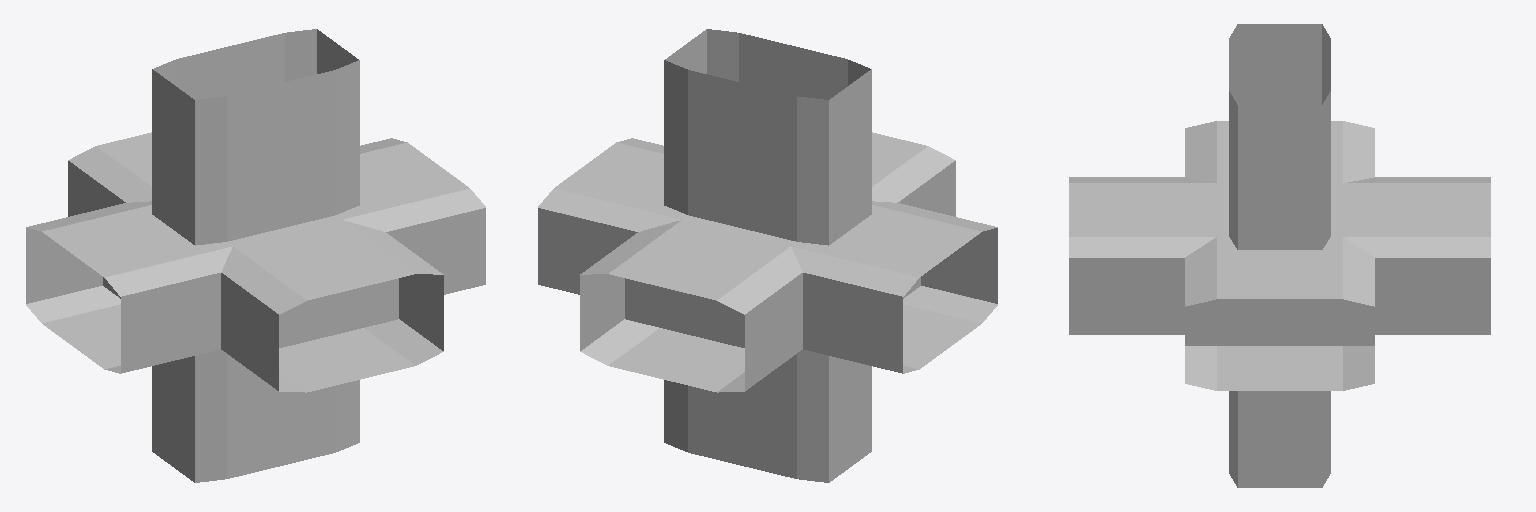
File: busway.obj
3 views of the same model, side by side, from view 1: azimuth 30°, elevation 25°; view 2: azimuth 150°, elevation 25°; view 3: azimuth 270°, elevation 25° (orthographic).
Parts seen in each view (by area): view 1: BuswaySingleVertEndB, BuswayConnectionB, BuswayJunctionConnectionEndC, BuswayConnectionE, BuswayJunctionConnectionEndA, BuswayStrightConnectionC, BuswaySingleHorzEndB, BuswaySingleHorzEndC, BuswaySingleHorzEndD, BuswayConnectionF, BuswaySingleVertEndA, BuswayConnectionD (+2 smaller); view 2: BuswaySingleVertEndB, BuswaySingleHorzEndC, BuswayJunctionConnectionEndA, BuswayStrightConnectionC, BuswayStrightConnectionB, BuswayConnectionE, BuswaySingleHorzEndA, BuswayConnectionF, BuswayJunctionConnectionEndB, BuswayJunctionConnectionEndC, BuswaySingleVertEndA, BuswayConnectionB (+4 smaller); view 3: BuswayJunctionConnectionEndA, BuswayConnectionE, BuswayJunctionConnectionEndC, BuswayConnectionB, BuswaySingleHorzEndD, BuswaySingleHorzEndB, BuswayConnectionD, BuswayConnectionF, BuswayStrightConnectionC, BuswaySingleHorzEndA, BuswaySingleVertEndB, BuswaySingleVertEndA (+4 smaller).
Boxes of the visible parts, x1=… form: BuswaySingleVertEndB: x1=152, y1=29, x2=358, y2=376; BuswayConnectionB: x1=221, y1=220, x2=443, y2=392; BuswayJunctionConnectionEndC: x1=26, y1=201, x2=407, y2=372; BuswayConnectionE: x1=152, y1=33, x2=359, y2=244; BuswayJunctionConnectionEndA: x1=68, y1=132, x2=398, y2=358; BuswayStrightConnectionC: x1=152, y1=35, x2=359, y2=482; BuswaySingleHorzEndB: x1=221, y1=216, x2=443, y2=392; BuswaySingleHorzEndC: x1=26, y1=206, x2=340, y2=373; BuswaySingleHorzEndD: x1=237, y1=142, x2=485, y2=293; BuswayConnectionF: x1=152, y1=350, x2=359, y2=482; BuswaySingleVertEndA: x1=152, y1=165, x2=359, y2=478; BuswayConnectionD: x1=336, y1=145, x2=485, y2=294; BuswaySingleVertEndB: x1=665, y1=29, x2=871, y2=376; BuswaySingleHorzEndC: x1=703, y1=205, x2=997, y2=373; BuswayJunctionConnectionEndA: x1=580, y1=191, x2=896, y2=390; BuswayStrightConnectionC: x1=664, y1=42, x2=871, y2=482; BuswayStrightConnectionB: x1=538, y1=145, x2=990, y2=371; BuswayConnectionE: x1=664, y1=48, x2=871, y2=244; BuswaySingleHorzEndA: x1=580, y1=215, x2=757, y2=392; BuswayConnectionF: x1=664, y1=350, x2=871, y2=482; BuswayJunctionConnectionEndB: x1=625, y1=223, x2=802, y2=357; BuswayJunctionConnectionEndC: x1=615, y1=201, x2=997, y2=373; BuswaySingleVertEndA: x1=664, y1=165, x2=851, y2=477; BuswayConnectionB: x1=872, y1=132, x2=955, y2=216; BuswayJunctionConnectionEndA: x1=1158, y1=177, x2=1490, y2=334; BuswayConnectionE: x1=1229, y1=24, x2=1330, y2=249; BuswayJunctionConnectionEndC: x1=1185, y1=121, x2=1374, y2=345; BuswayConnectionB: x1=1069, y1=177, x2=1216, y2=334; BuswaySingleHorzEndD: x1=1185, y1=183, x2=1374, y2=390; BuswaySingleHorzEndB: x1=1069, y1=177, x2=1342, y2=236; BuswayConnectionD: x1=1185, y1=241, x2=1374, y2=390; BuswayConnectionF: x1=1229, y1=391, x2=1330, y2=487; BuswayStrightConnectionC: x1=1229, y1=24, x2=1330, y2=487; BuswaySingleHorzEndA: x1=1222, y1=183, x2=1490, y2=334; BuswaySingleVertEndB: x1=1229, y1=24, x2=1330, y2=104; BuswaySingleVertEndA: x1=1229, y1=210, x2=1330, y2=487.
Size of the model in its own units: 1 by 1 by 1.